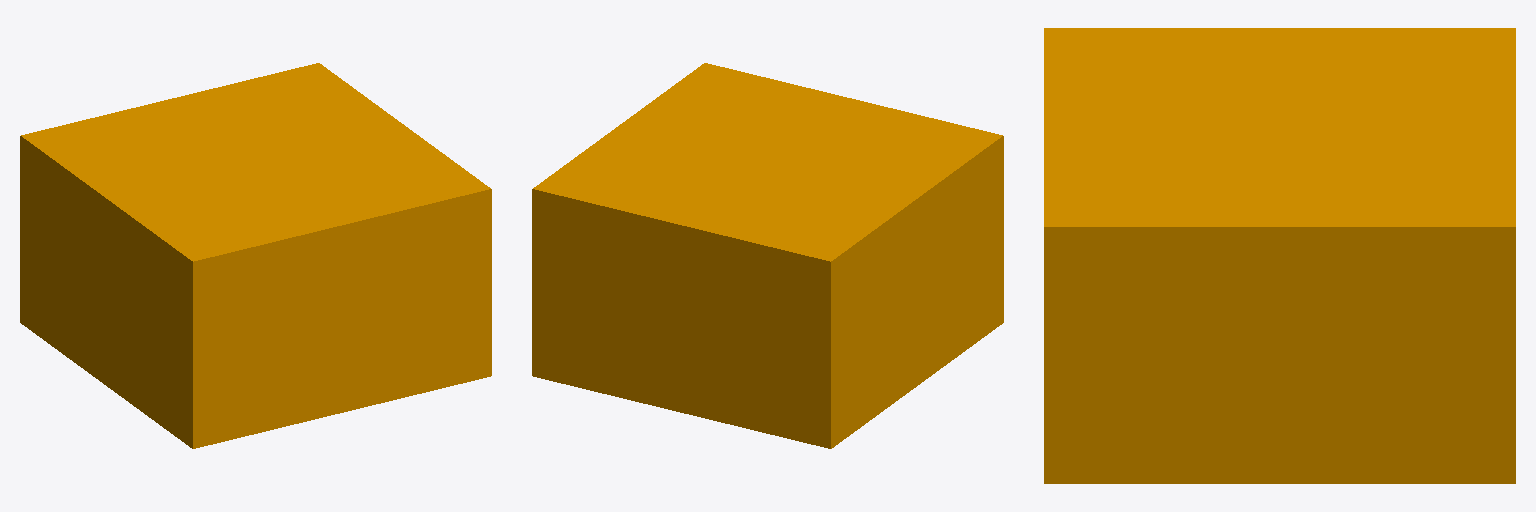
The robot description file, URDF, robot "2x2":
<?xml version='1.0' encoding='UTF-8'?>
<robot name="2x2">
  <link name="base_link">
    <inertial>
      <origin xyz="0.0 0.0 0.0" rpy="0.0 0.0 0.0"/>
      <mass value="0.01"/>
      <inertia ixx="0.1" ixy="0.0" ixz="0.0" iyy="0.1" iyz="0.0" izz="0.1"/>
    </inertial>
    <visual>
      <geometry>
        <box size="0.02  0.02  0.012"/>
      </geometry>
      <material name=""/>
      <origin xyz="0.0 0.0 0.0" rpy="0.0 0.0 0.0"/>
    </visual>
    <collision>
      <geometry>
        <box size="0.02  0.02  0.012"/>
      </geometry>
      <origin xyz="0.0 0.0 0.0" rpy="0.0 0.0 0.0"/>
    </collision>
  </link>
  <material name="">
    <color rgba="1. 1. 1. 1."/>
  </material>
  <contact>
    <lateral_friction value="1.0"/>
    <rolling_friction value="0.0"/>
    <contact_cfm value="0.0"/>
    <contact_erp value="1.0"/>
  </contact>
</robot>

--- What the picture shows (computed from the rendered views, not written in the file) ---
Views: 3 orthographic renders of the robot side by side, from view 1: azimuth 30°, elevation 25°; view 2: azimuth 150°, elevation 25°; view 3: azimuth 270°, elevation 25°.
Robot: 2x2 — 1 links, 0 joints (none); root link base_link; default pose: all joints at 0.
Visible links, largest first — view 1: base_link; view 2: base_link; view 3: base_link.
Link boxes in pixels (x1,y1,x2,y2): base_link: [20, 63, 491, 448]; base_link: [532, 63, 1003, 448]; base_link: [1044, 28, 1515, 483].
Size in the robot's own frame: 0.02 by 0.02 by 0.012 metres.
Geometry: primitives only (box / cylinder / sphere), no mesh files.